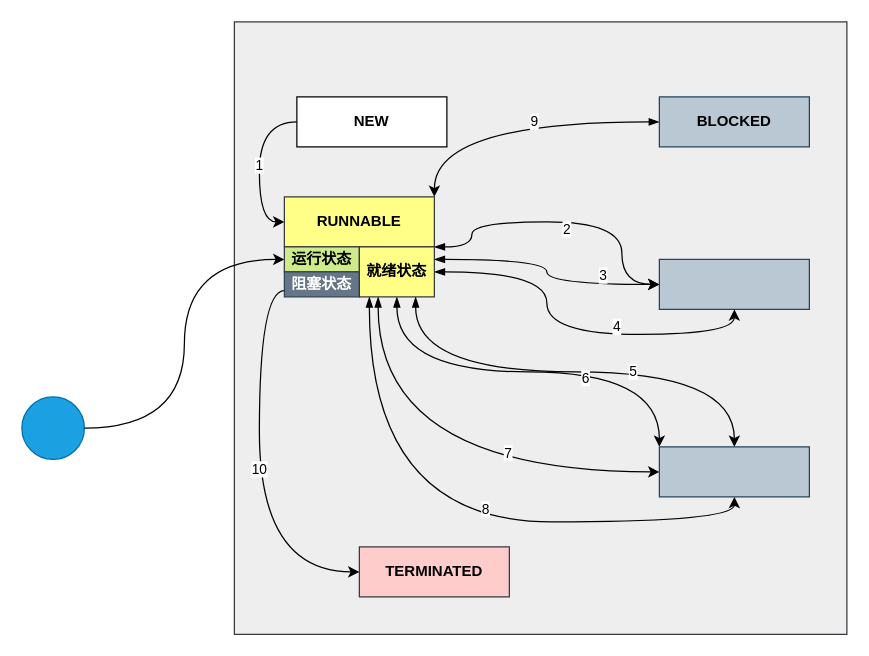
Image size: 869x656. Some labels were removed from this diagram. The box of each missing label's shape, as (x1, y1, x2, y2) in pixels:
CPU: (21, 396, 84, 459)
TIMED WAITING: (658, 446, 809, 497)
WAITING: (658, 258, 809, 309)
